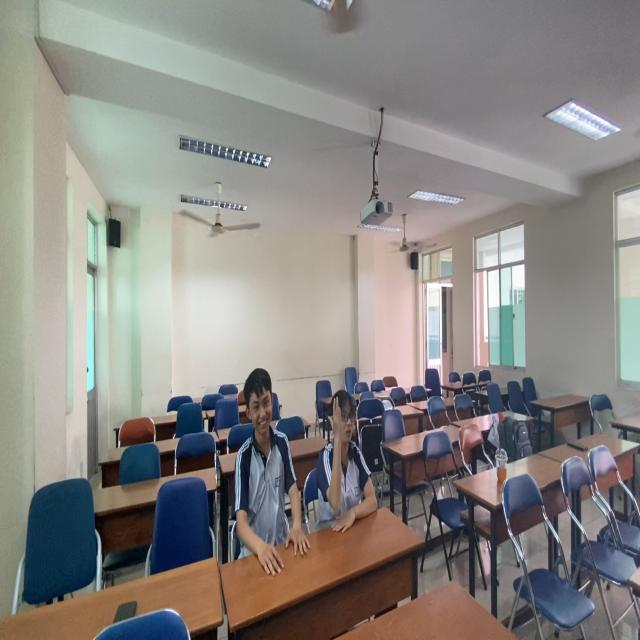raise_hand: (319, 388, 377, 529)
